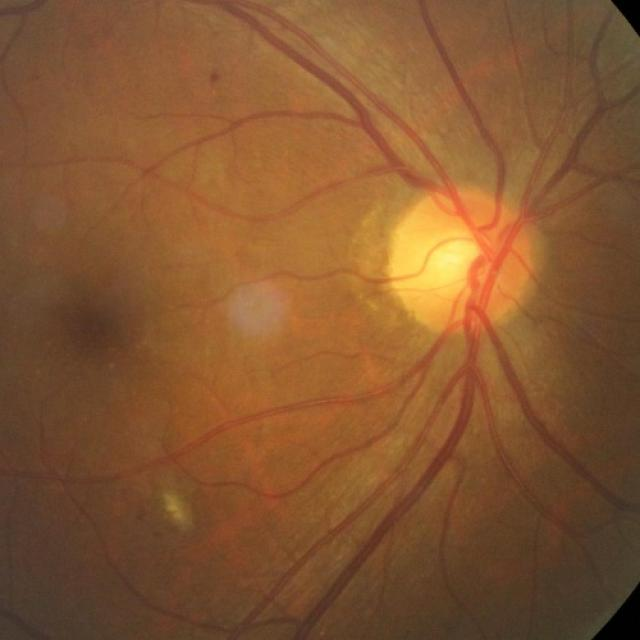OC: (426, 235, 484, 292)
OD: (390, 189, 538, 335)
